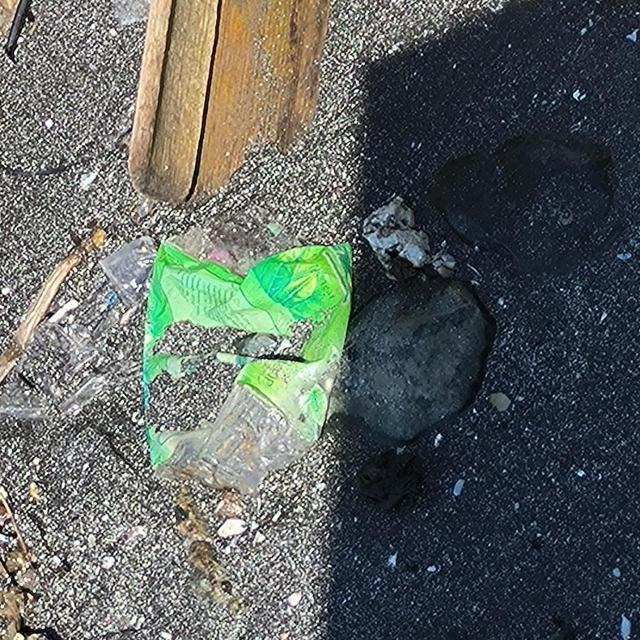plastic_waste: (143, 238, 355, 499)
